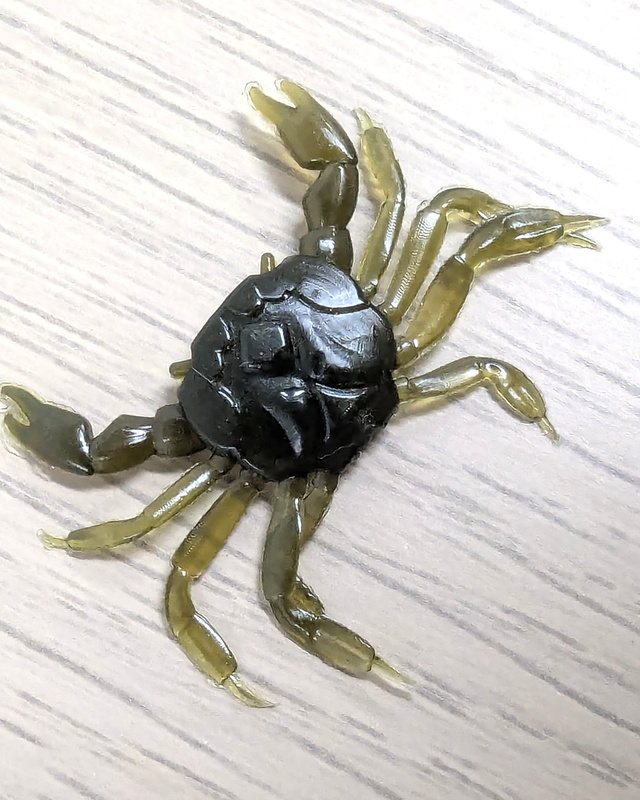crab2: (1, 77, 611, 710)
